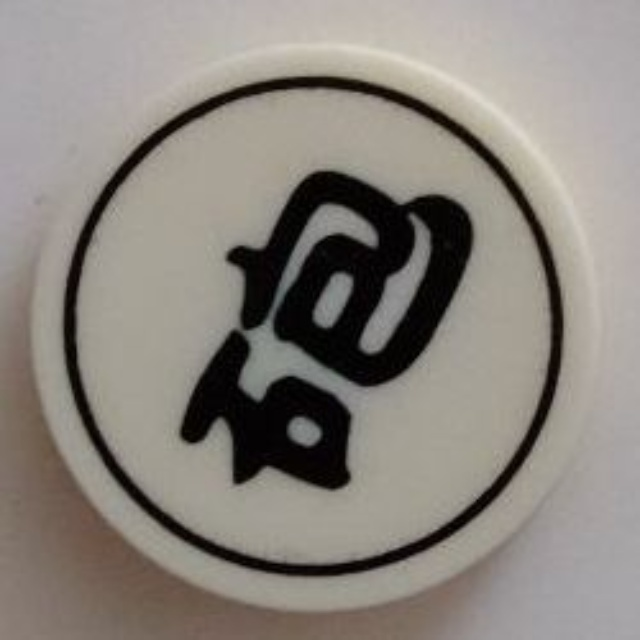black_phao: (29, 41, 611, 618)
